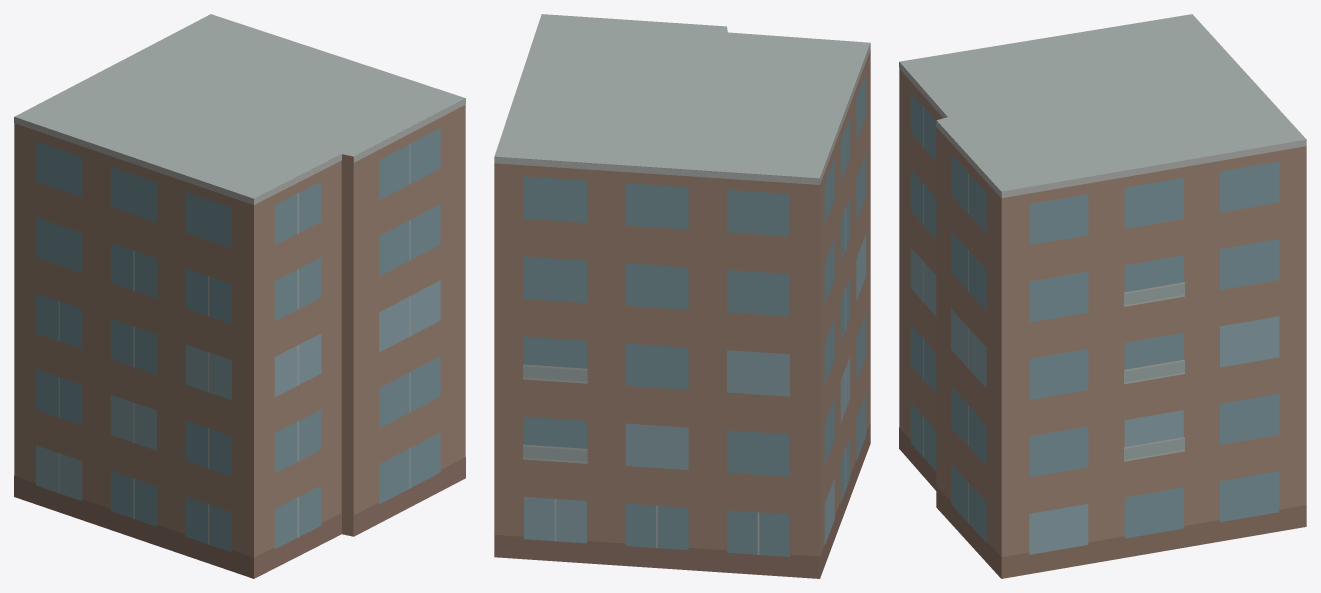
Rendered from survey-upis-32859936.glb.
The picture shows the model from 3 angles, left to right: view 1: azimuth 30°, elevation 25°; view 2: azimuth 150°, elevation 25°; view 3: azimuth 270°, elevation 25°; orthographic projection. The views are drawn at different scales.
Parts seen in each view (by area): view 1: survey-upis-32859936.tmp; view 2: survey-upis-32859936.tmp; view 3: survey-upis-32859936.tmp.
Part boxes in pixels (left/top/right/bottom): survey-upis-32859936.tmp: left=14, top=14, right=465, bottom=578; survey-upis-32859936.tmp: left=494, top=14, right=870, bottom=578; survey-upis-32859936.tmp: left=899, top=14, right=1306, bottom=578.
Bounding box in the file's own units: 14.39 × 14.6 × 13.94.
